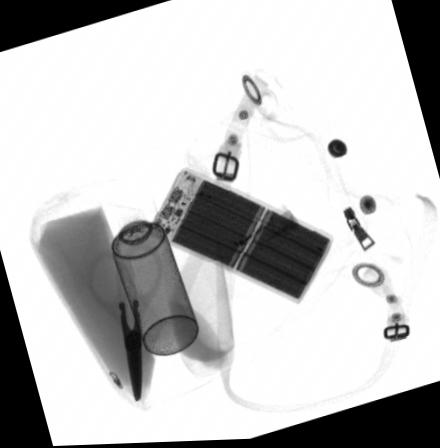Lighter: (226, 209, 301, 262)
Powerbank: (146, 166, 333, 306)
Scissors: (84, 240, 161, 403)
Sprayer: (97, 189, 200, 355)
